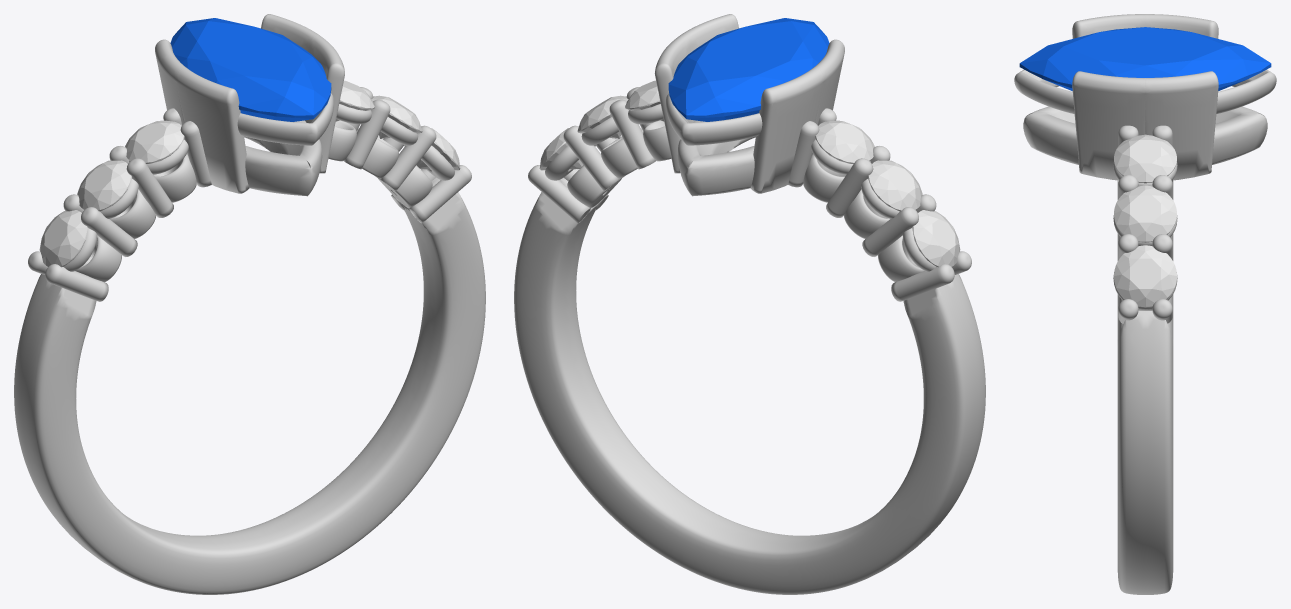
File: bluesapphire-marquise-platinum-halfmoonbezel-straightband-7stone.glb
3 views of the same model, side by side, from view 1: azimuth 30°, elevation 25°; view 2: azimuth 150°, elevation 25°; view 3: azimuth 270°, elevation 25° (orthographic).
Parts seen in each view (by area): view 1: metal.003, stone.002, side.002, side.013, side.014, side.016, side.017; view 2: metal.003, stone.002, side.002, side.013, side.014, side.016, side.017; view 3: metal.003, stone.002, side.015, side.016, side.017.
Part boxes in pixels (x1,y1,x2,y2): metal.003: (14,14,485,594); stone.002: (170,18,331,121); side.002: (39,210,87,267); side.013: (77,160,131,211); side.014: (125,120,184,163); side.016: (371,95,422,138); side.017: (335,80,374,121); metal.003: (514,14,985,594); stone.002: (668,18,829,121); side.002: (912,210,960,267); side.013: (868,160,922,211); side.014: (815,120,874,163); side.016: (577,95,628,138); side.017: (625,80,664,121); metal.003: (1014,14,1276,594); stone.002: (1019,27,1271,90); side.015: (1114,245,1176,307); side.016: (1114,185,1176,242); side.017: (1114,134,1176,183).
Size of the model in its own units: 20.5 by 22.94 by 10.4.
